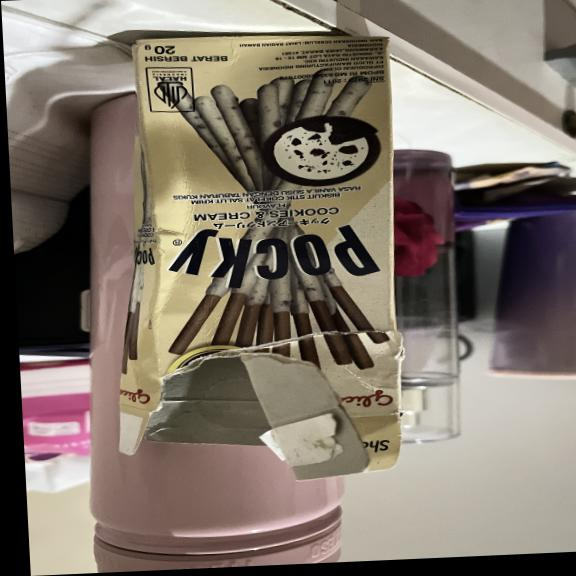Kertas: (114, 32, 395, 411)
